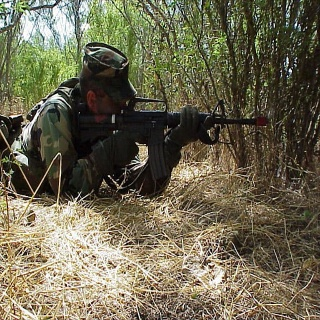rifle: (73, 95, 268, 182)
